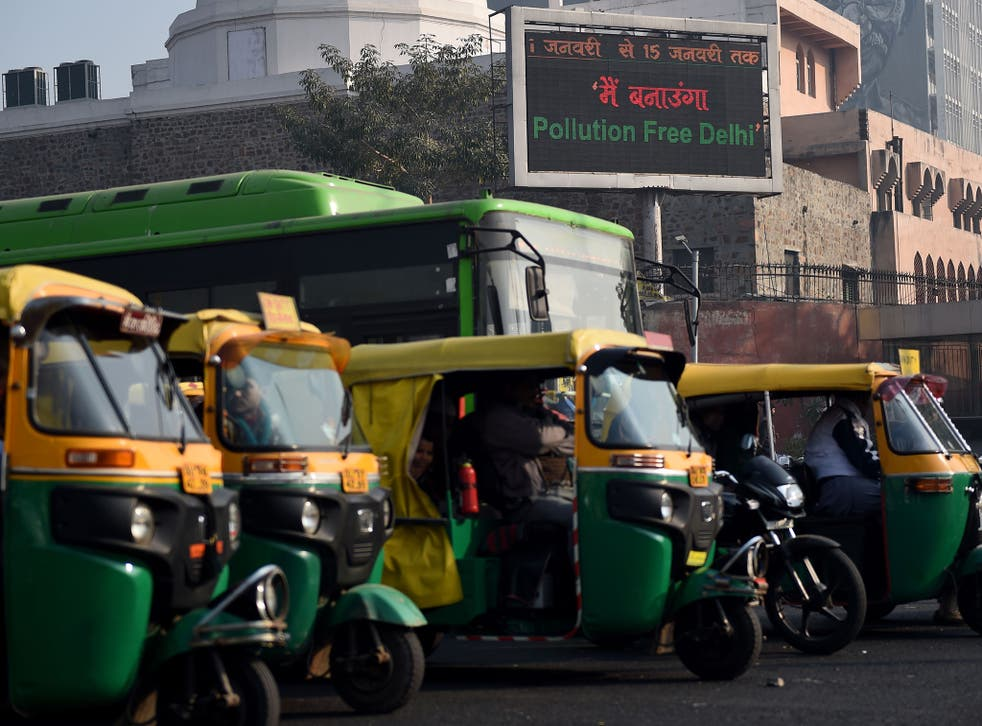bike: (735, 446, 880, 659)
bus: (13, 152, 717, 335)
rickshaw: (359, 324, 777, 684), (4, 265, 298, 721), (183, 294, 435, 701), (725, 348, 982, 608)
